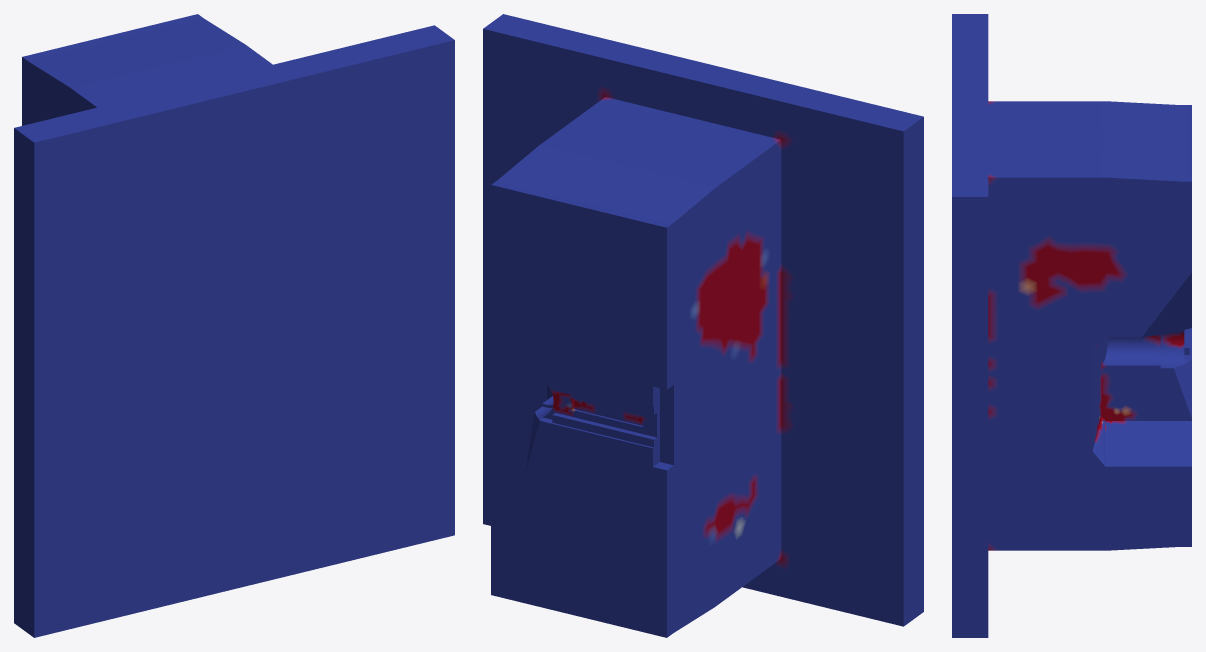
The model's file is H13-410_Static.glb.
The picture shows the model from 3 angles, left to right: view 1: azimuth 30°, elevation 25°; view 2: azimuth 150°, elevation 25°; view 3: azimuth 270°, elevation 25°; orthographic projection. The views are drawn at different scales.
Parts seen in each view (by area): view 1: H13-410; view 2: H13-410; view 3: H13-410.
Part boxes in pixels (x1,y1,x2,y2): H13-410: (14,14,454,637); H13-410: (483,14,923,637); H13-410: (952,14,1191,637).
Size of the model in its own units: 6.1 by 6.86 by 3.38.
